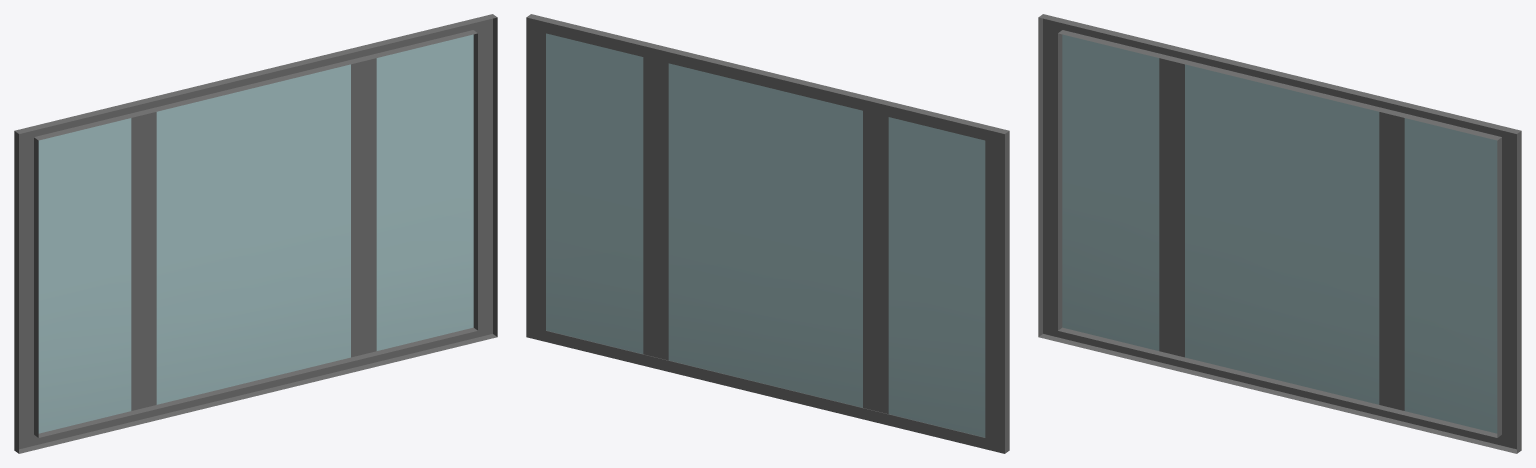
The model's file is New_windows _side_flat.fbx.
3 views of the same model, side by side, from view 1: azimuth 30°, elevation 25°; view 2: azimuth 150°, elevation 25°; view 3: azimuth 330°, elevation 25° (orthographic).
Visible parts, largest first — view 1: New_windows _side_flat; view 2: New_windows _side_flat; view 3: New_windows _side_flat.
Part boxes in pixels (<box>): New_windows _side_flat: <box>14,14,497,453</box>; New_windows _side_flat: <box>526,14,1009,453</box>; New_windows _side_flat: <box>1038,14,1521,453</box>.
Size of the model in its own units: 5.53 by 0.0941 by 3.53.
